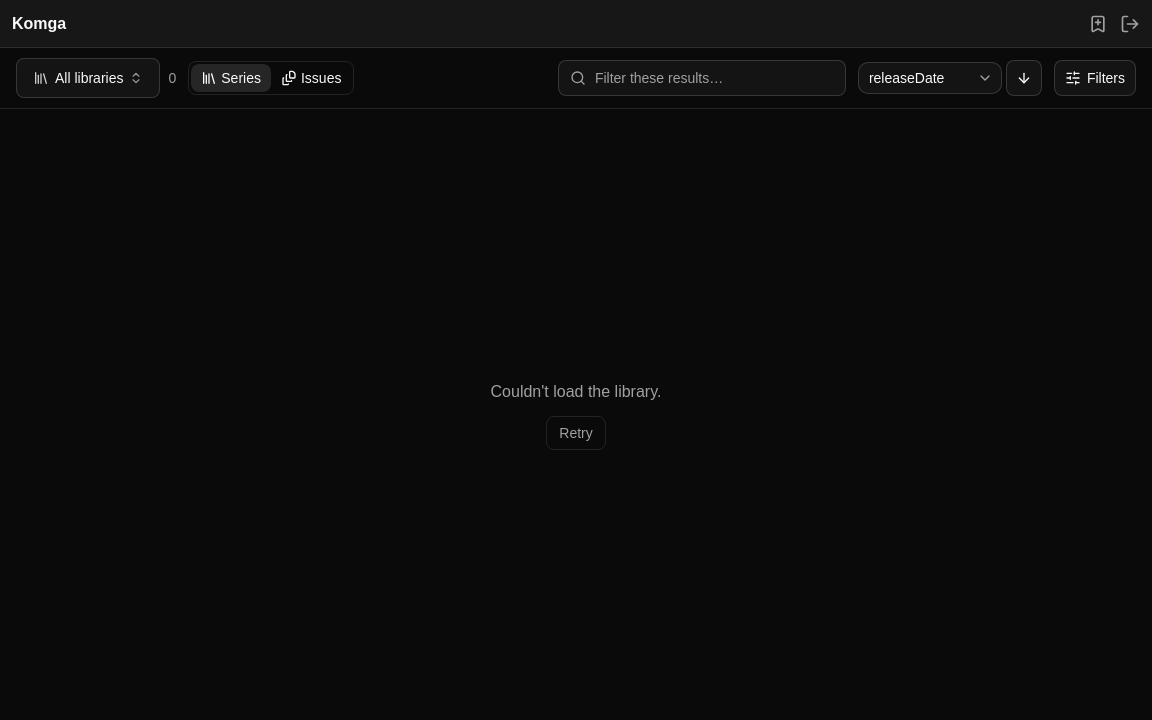
LibraryBrowser (mobile) › shows no inline filter aside and opens the filter sheet from the toolbar
The width and height of the screenshot is (1152, 720).
expect the text "Read status" is not shown: met
Click the button "Filters".
click(1095, 78)  # box left=1054, top=60, right=1136, bottom=96
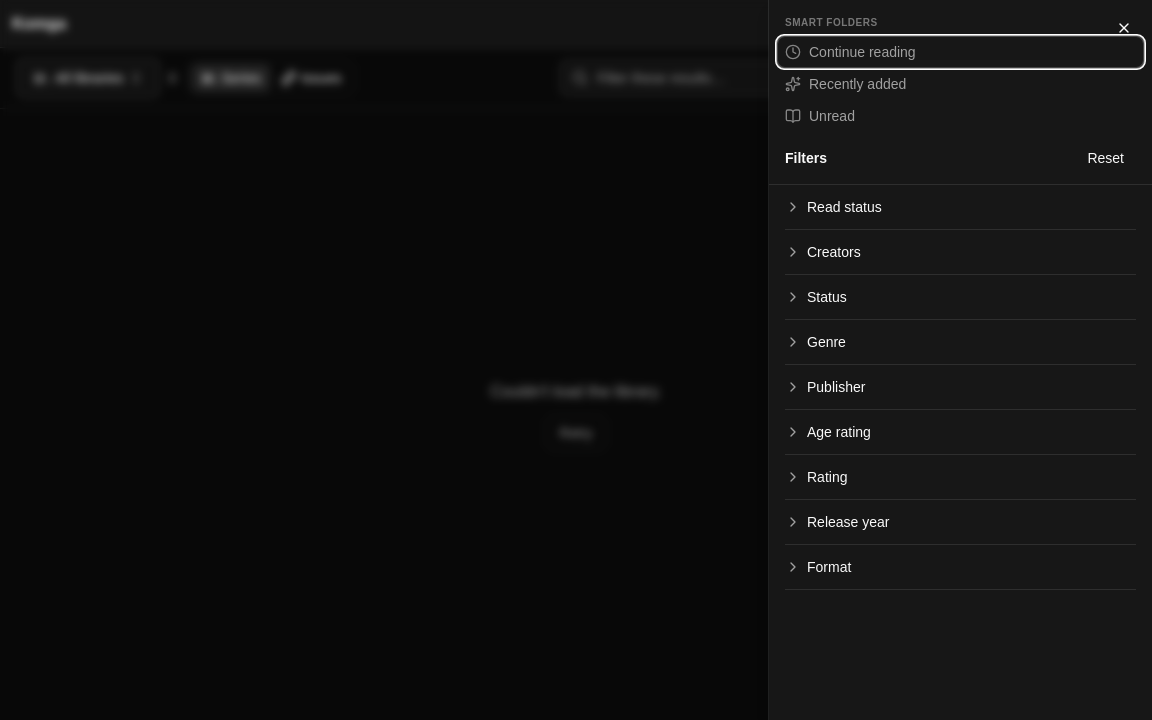
expect the text "Read status" is shown: met, box left=807, top=197, right=882, bottom=217
